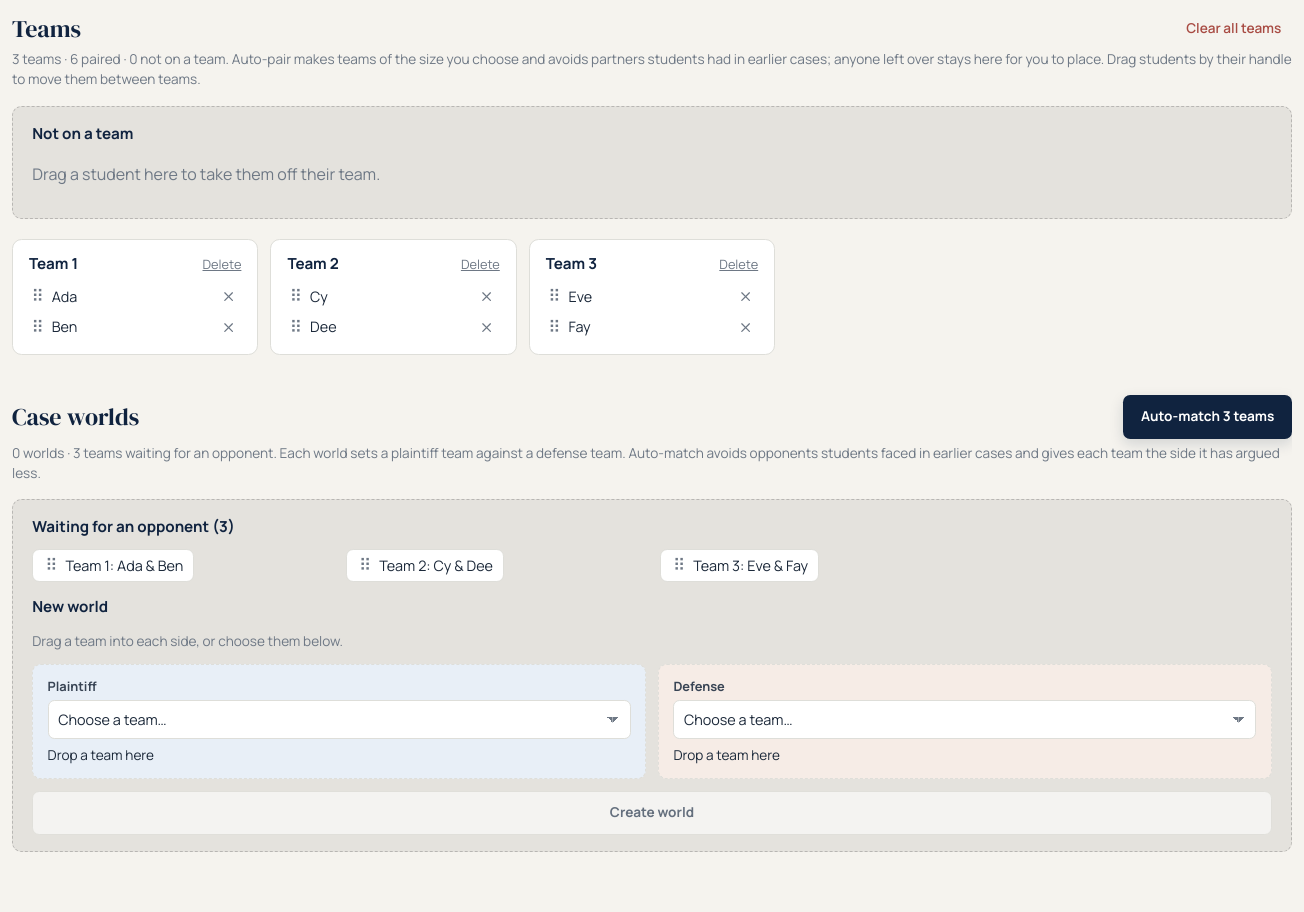
Test: case worlds › shows errors in the worlds section
Click the button "Auto-match 3 teams".
click(1208, 416)  # box [1123,394,1292,438]
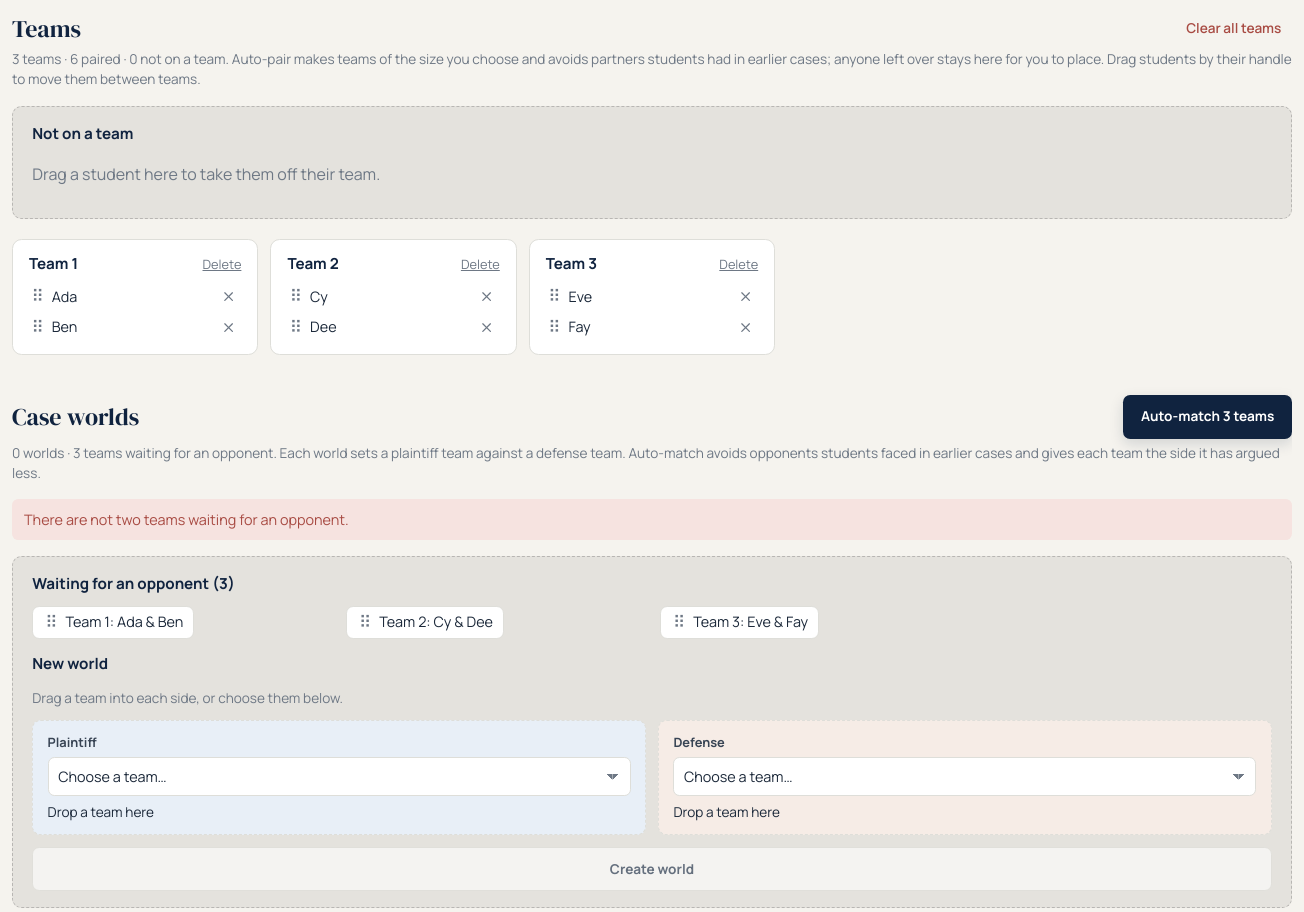
Now the message shows "There are not two teams waiting", box [24,510,349,529]
